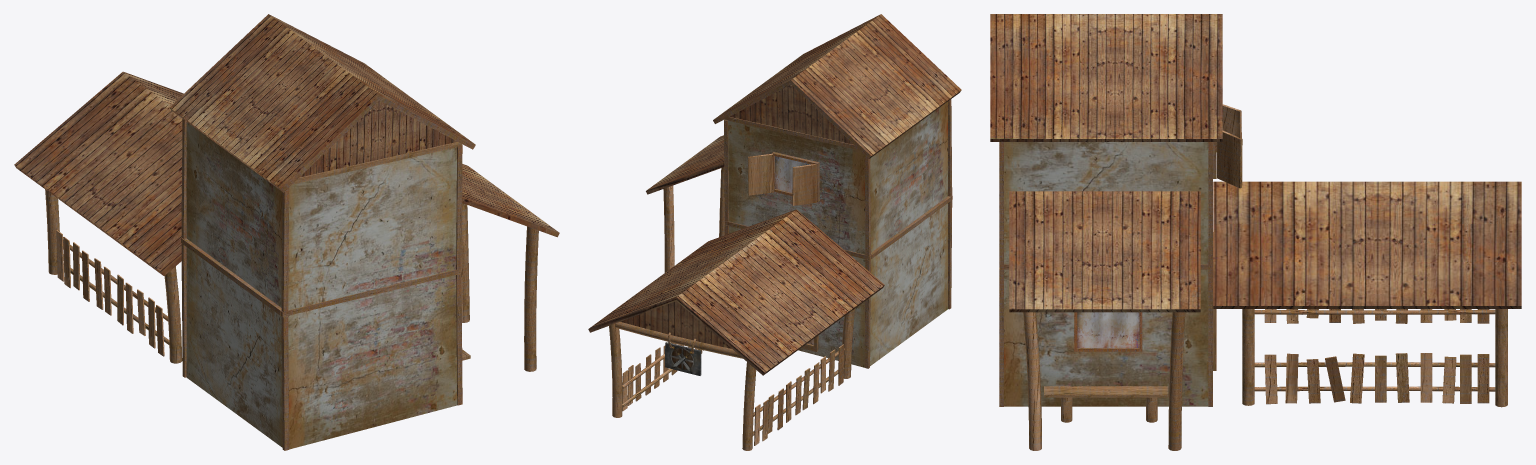
Rendered from SHOP.FBX.
The picture shows the model from 3 angles, left to right: view 1: azimuth 30°, elevation 25°; view 2: azimuth 150°, elevation 25°; view 3: azimuth 270°, elevation 25°; orthographic projection. The views are drawn at different scales.
Visible parts, largest first — view 1: ShopWeapon; view 2: ShopWeapon; view 3: ShopWeapon.
Boxes of the visible parts, <box> form: ShopWeapon: <box>14,14,559,450</box>; ShopWeapon: <box>588,14,961,450</box>; ShopWeapon: <box>990,14,1521,450</box>.
Bounding box in the file's own units: 170 × 183 × 250.
